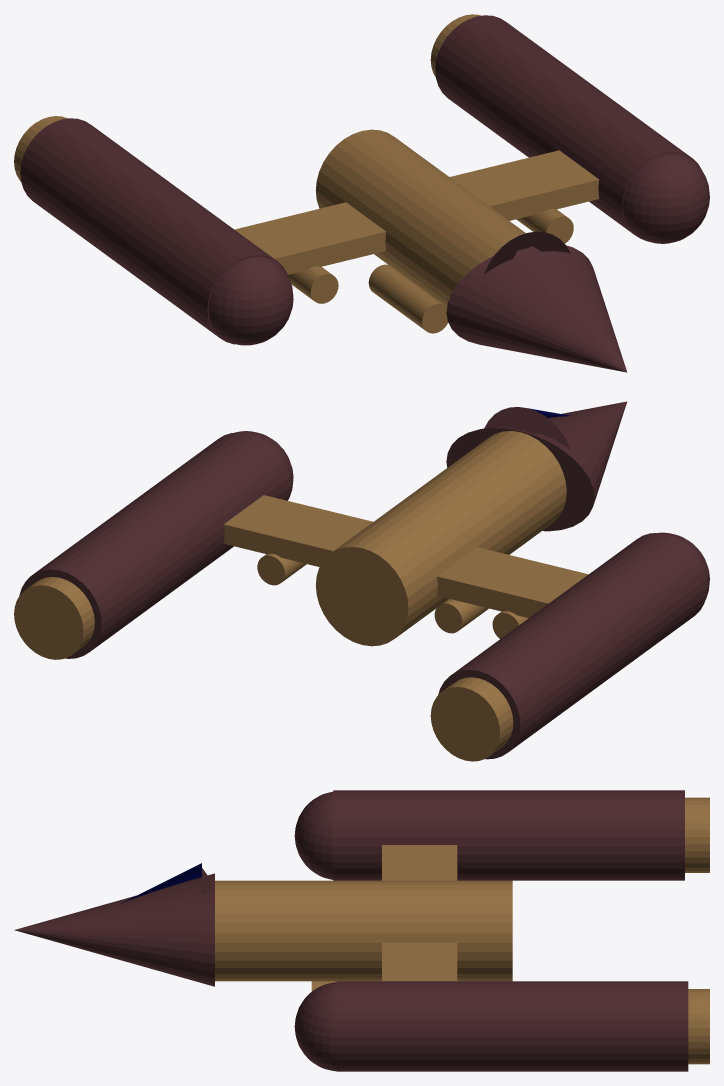
File: SPOILER_WeHaveYWingAtHome.fbx
3 views of the same model, one above another, from view 1: azimuth 30°, elevation 25°; view 2: azimuth 150°, elevation 25°; view 3: azimuth 270°, elevation 25° (orthographic). The views are drawn at different scales.
Parts seen in each view (by area): view 1: Cylinder.001, Cylinder.002, Cylinder, Cone, Cube, Sphere.001, Sphere, Cylinder.004, Cone.001, Cylinder.003, Cylinder.006, Cylinder.007; view 2: Cylinder, Cylinder.001, Cylinder.002, Cube, Cone, Cylinder.007, Cylinder.008, Cone.001, Cylinder.004, Cylinder.006, Sphere.001, Cylinder.003; view 3: Cylinder.002, Cylinder.001, Cylinder, Cone, Cube, Sphere.001, Sphere, Cylinder.007, Cylinder.008, Cone.001.
Boxes of the visible parts, x1,y1,x2,y2 form: Cylinder.001: [20, 118, 288, 344]; Cylinder.002: [435, 15, 701, 238]; Cylinder: [315, 129, 525, 307]; Cone: [446, 245, 627, 372]; Cube: [234, 150, 599, 274]; Sphere.001: [623, 153, 709, 243]; Sphere: [208, 256, 293, 345]; Cylinder.004: [368, 264, 447, 333]; Cone.001: [484, 231, 570, 274]; Cylinder.003: [288, 266, 338, 303]; Cylinder.006: [516, 209, 573, 243]; Cylinder.007: [14, 116, 67, 181]; Cylinder: [315, 431, 566, 646]; Cylinder.001: [438, 533, 707, 759]; Cylinder.002: [19, 432, 288, 658]; Cube: [223, 495, 588, 617]; Cone: [446, 401, 627, 531]; Cylinder.007: [430, 677, 513, 761]; Cylinder.008: [14, 577, 94, 659]; Cone.001: [484, 407, 570, 449]; Cylinder.004: [434, 599, 488, 633]; Cylinder.006: [257, 553, 306, 585]; Sphere.001: [235, 431, 293, 500]; Cylinder.003: [492, 611, 528, 638]; Cylinder.002: [336, 981, 688, 1071]; Cylinder.001: [333, 790, 684, 880]; Cylinder: [215, 880, 512, 981]; Cone: [14, 873, 214, 986]; Cube: [382, 845, 457, 981]; Sphere.001: [294, 982, 336, 1071]; Sphere: [294, 791, 333, 879]; Cylinder.007: [685, 797, 709, 872]; Cylinder.008: [688, 989, 709, 1064]; Cone.001: [121, 863, 211, 903].
Size of the model in its own units: 1080 by 279 by 1385.
